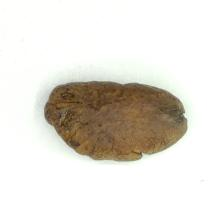NG: (44, 106, 188, 163)
